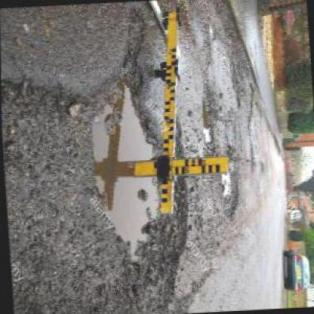Hueco: (51, 65, 197, 313), (216, 146, 245, 217), (199, 90, 215, 146)
